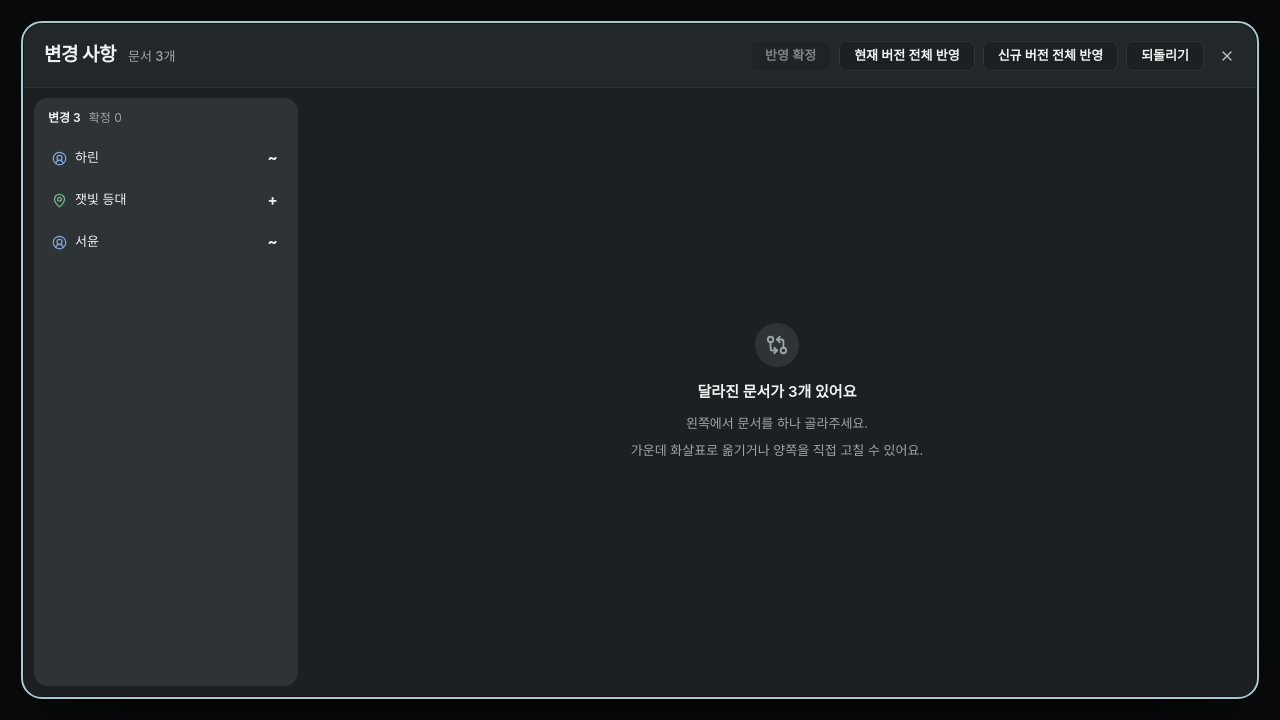
Test: GraphDiffModal › keeps expired review edits, blocks closing and saves after same-account login
Step 1. Click the button "하린 ~" → (166, 158), box left=42, top=138, right=290, bottom=178
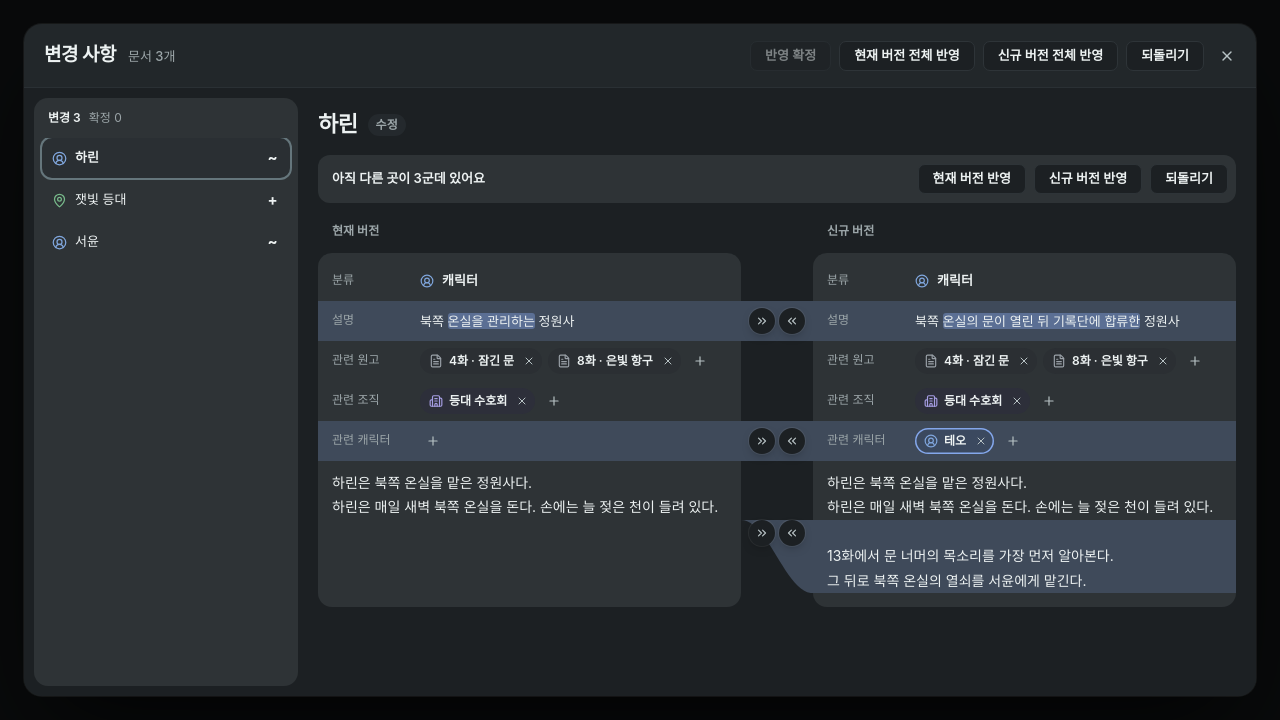
Step 2. Replace the text in the text box named "신규 버전 설명" with "로그인 후에도 보존할 검토 내용" → (1066, 321), box left=907, top=305, right=1226, bottom=337
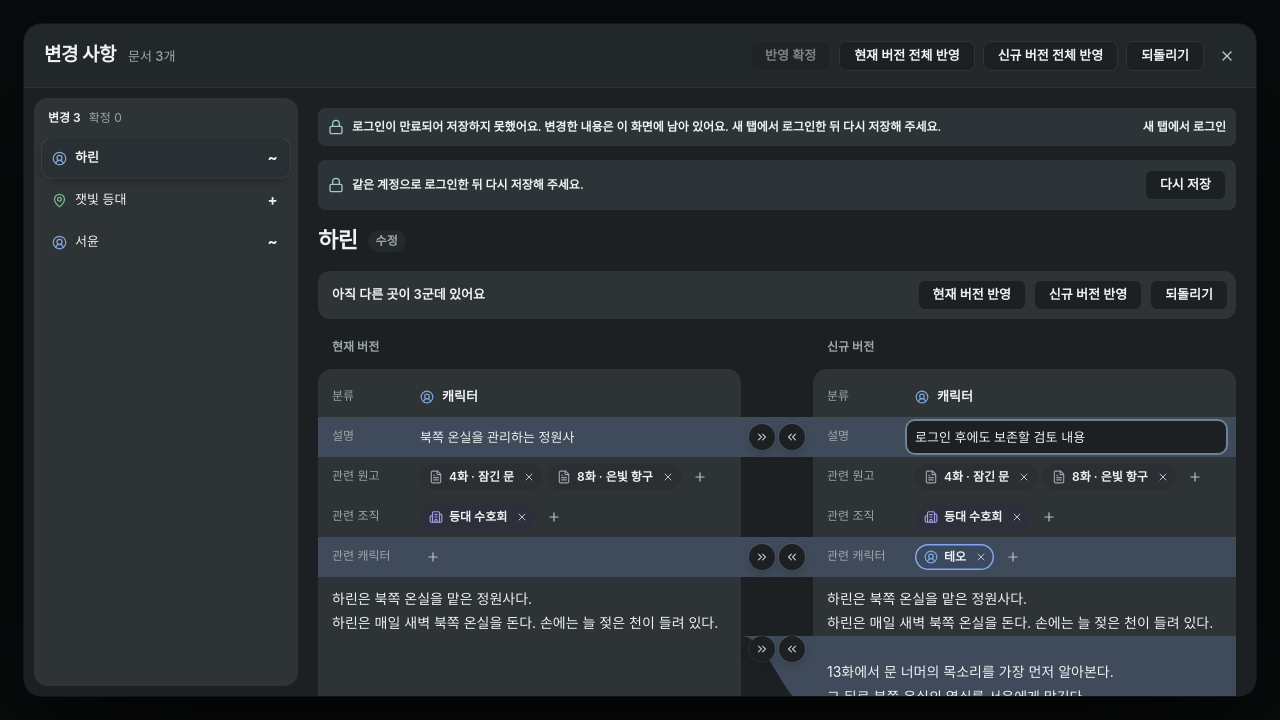
Expected: the button "반영 확정" is disabled, left=750, top=40, right=831, bottom=70
Now the text "로그인이 만료되어 저장하지 못했어요" is shown, box left=352, top=119, right=941, bottom=134
Step 3. Press Escape
Step 4. Click the button named "변경 사항 닫기" → (1227, 56), box left=1212, top=40, right=1242, bottom=70
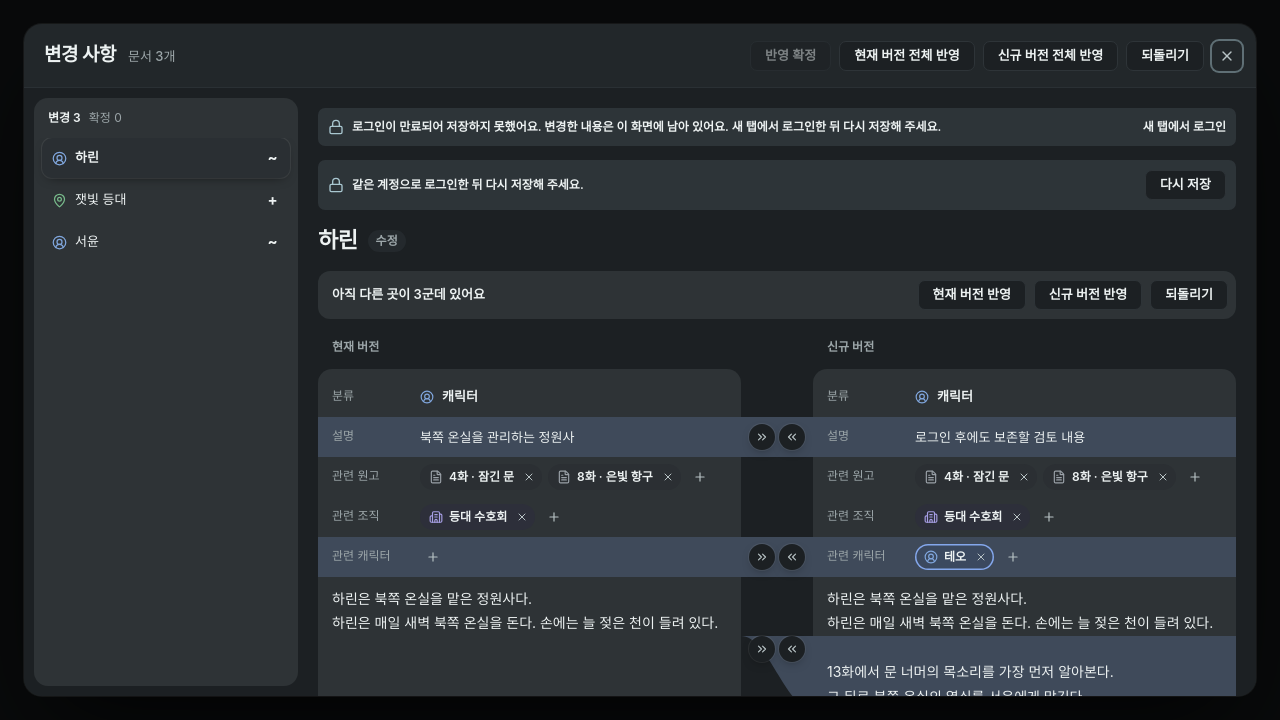
Step 5. Click the button "다시 저장" → (1185, 185), box left=1145, top=170, right=1226, bottom=200
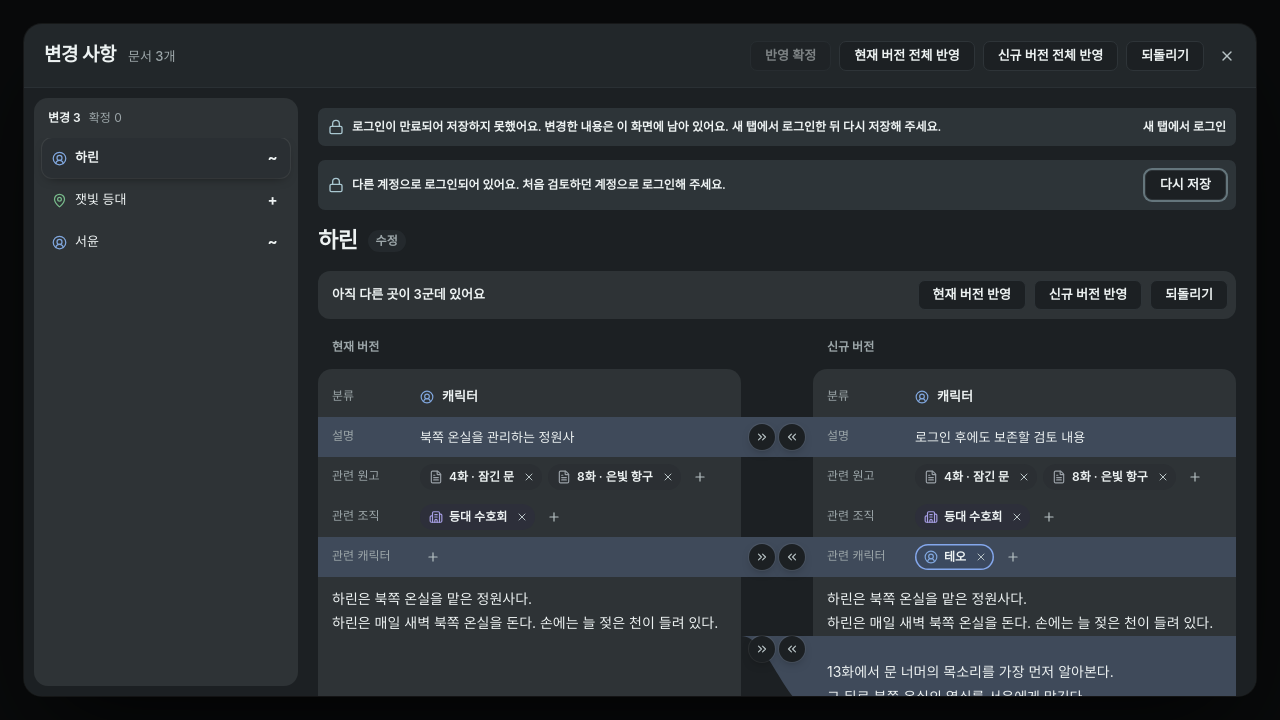
Now the text "다른 계정으로 로그인되어 있어요. 처음 검토하던 계정으로 로그인해 주세요." is shown, box left=352, top=177, right=726, bottom=192
Step 6. Click the button "다시 저장" → (1185, 185), box left=1145, top=170, right=1226, bottom=200
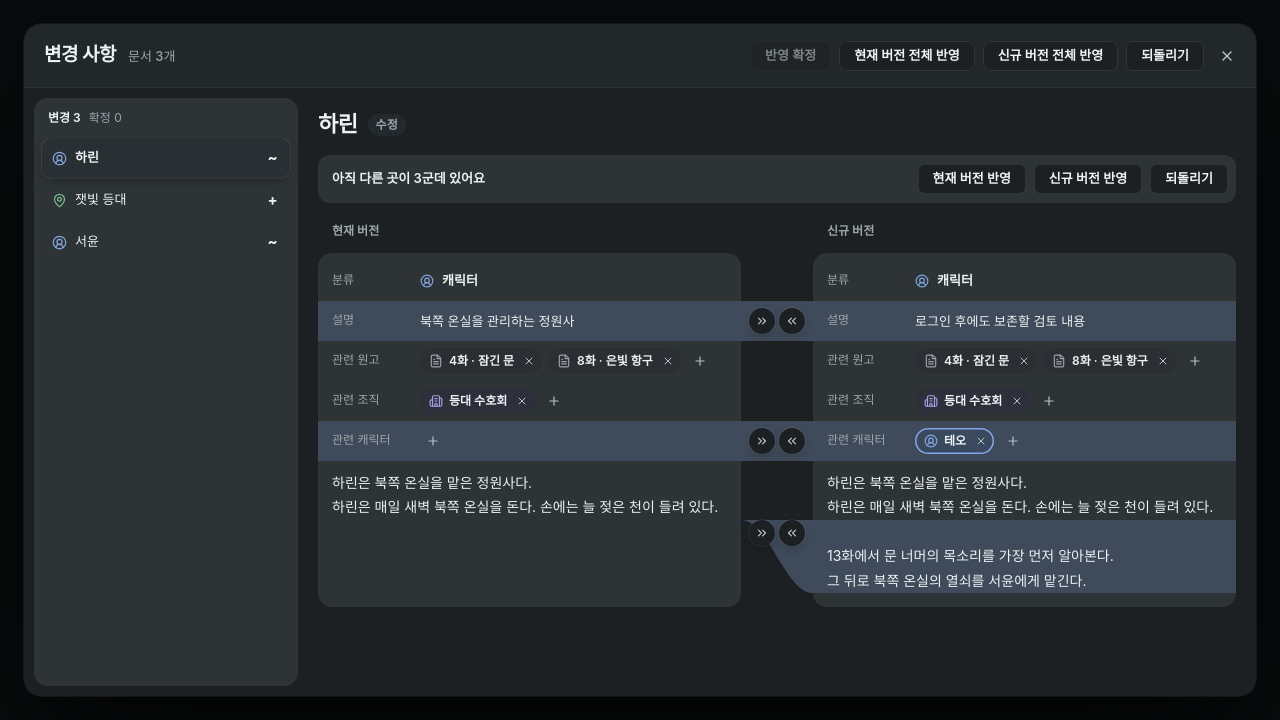
Now the text "새 탭에서 로그인" is gone
